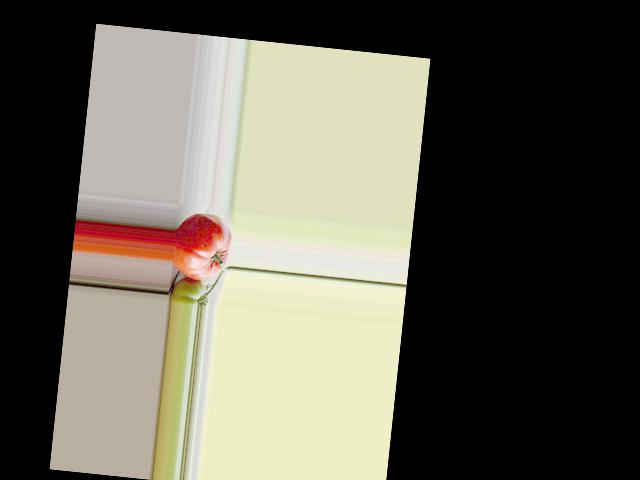tomato: (169, 210, 233, 282)
